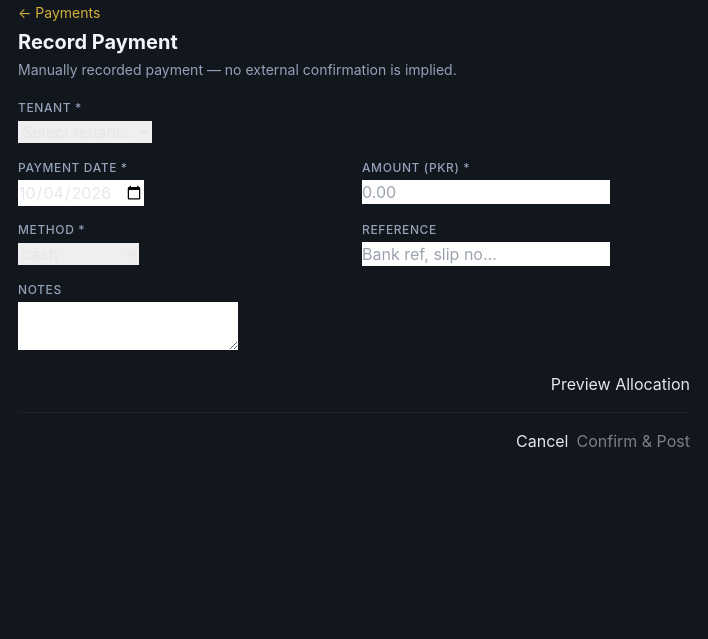
Payment form › requires preview before posting (double-submit safety)
Expected: the heading "Record Payment" is shown, [18,30,178,54]
# Select tenant and enter amount.
Select "Ahmed Raza" in the dropdown labelled "Tenant *" at (85, 132), box [18,121,152,143]
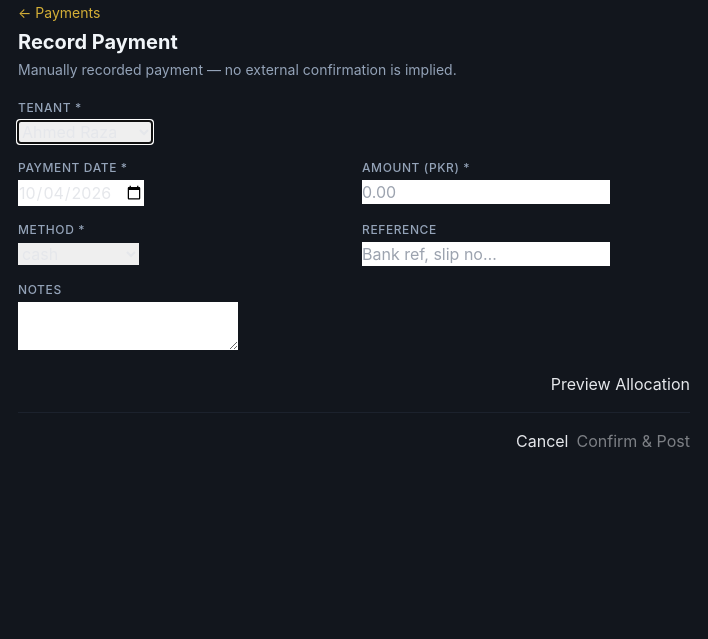
Type "30000" into the number field labelled "Amount (PKR) *" at (486, 192), box [362,180,610,204]
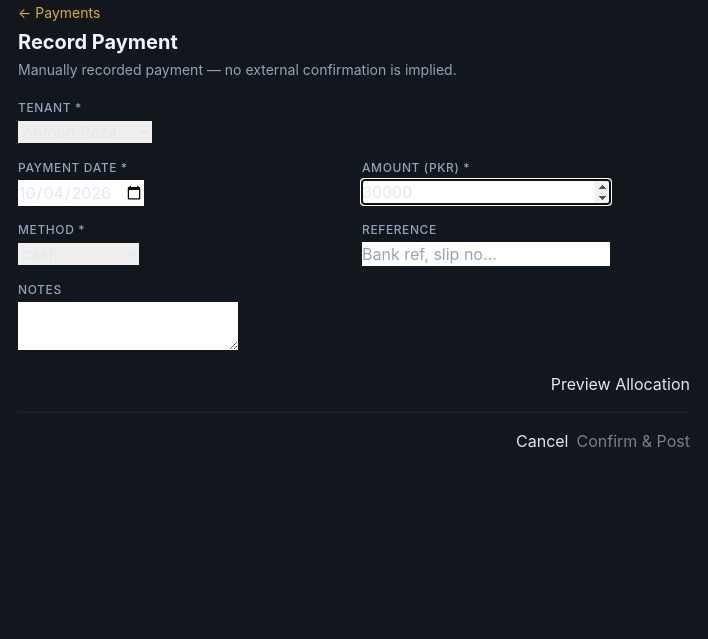
# Preview the allocation.
Click the button "Preview Allocation" at (620, 384), box [551,372,690,396]
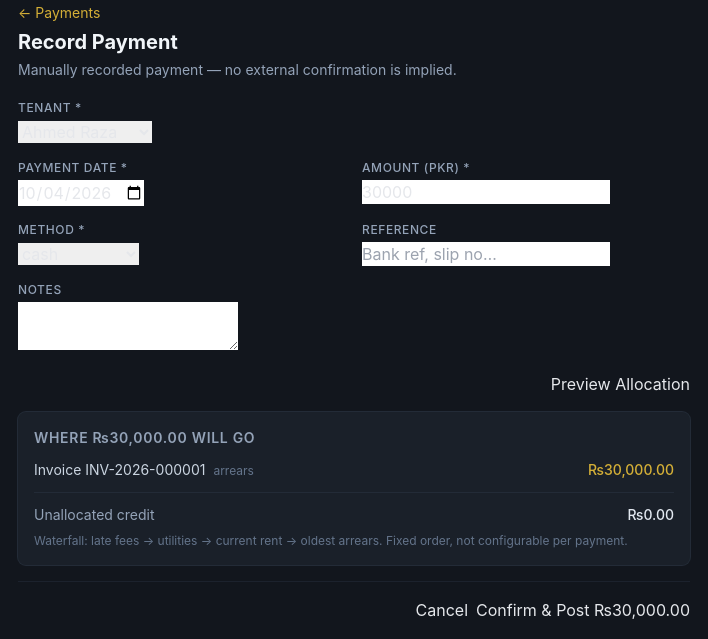
Result: the heading "Where ₨30,000.00 will go" is shown at [34,429,255,446]
Result: the text "Invoice INV-2026-000001" is shown at [34,461,205,478]
Result: the button "Confirm & Post ₨30,000.00" is enabled at [476,598,690,622]
